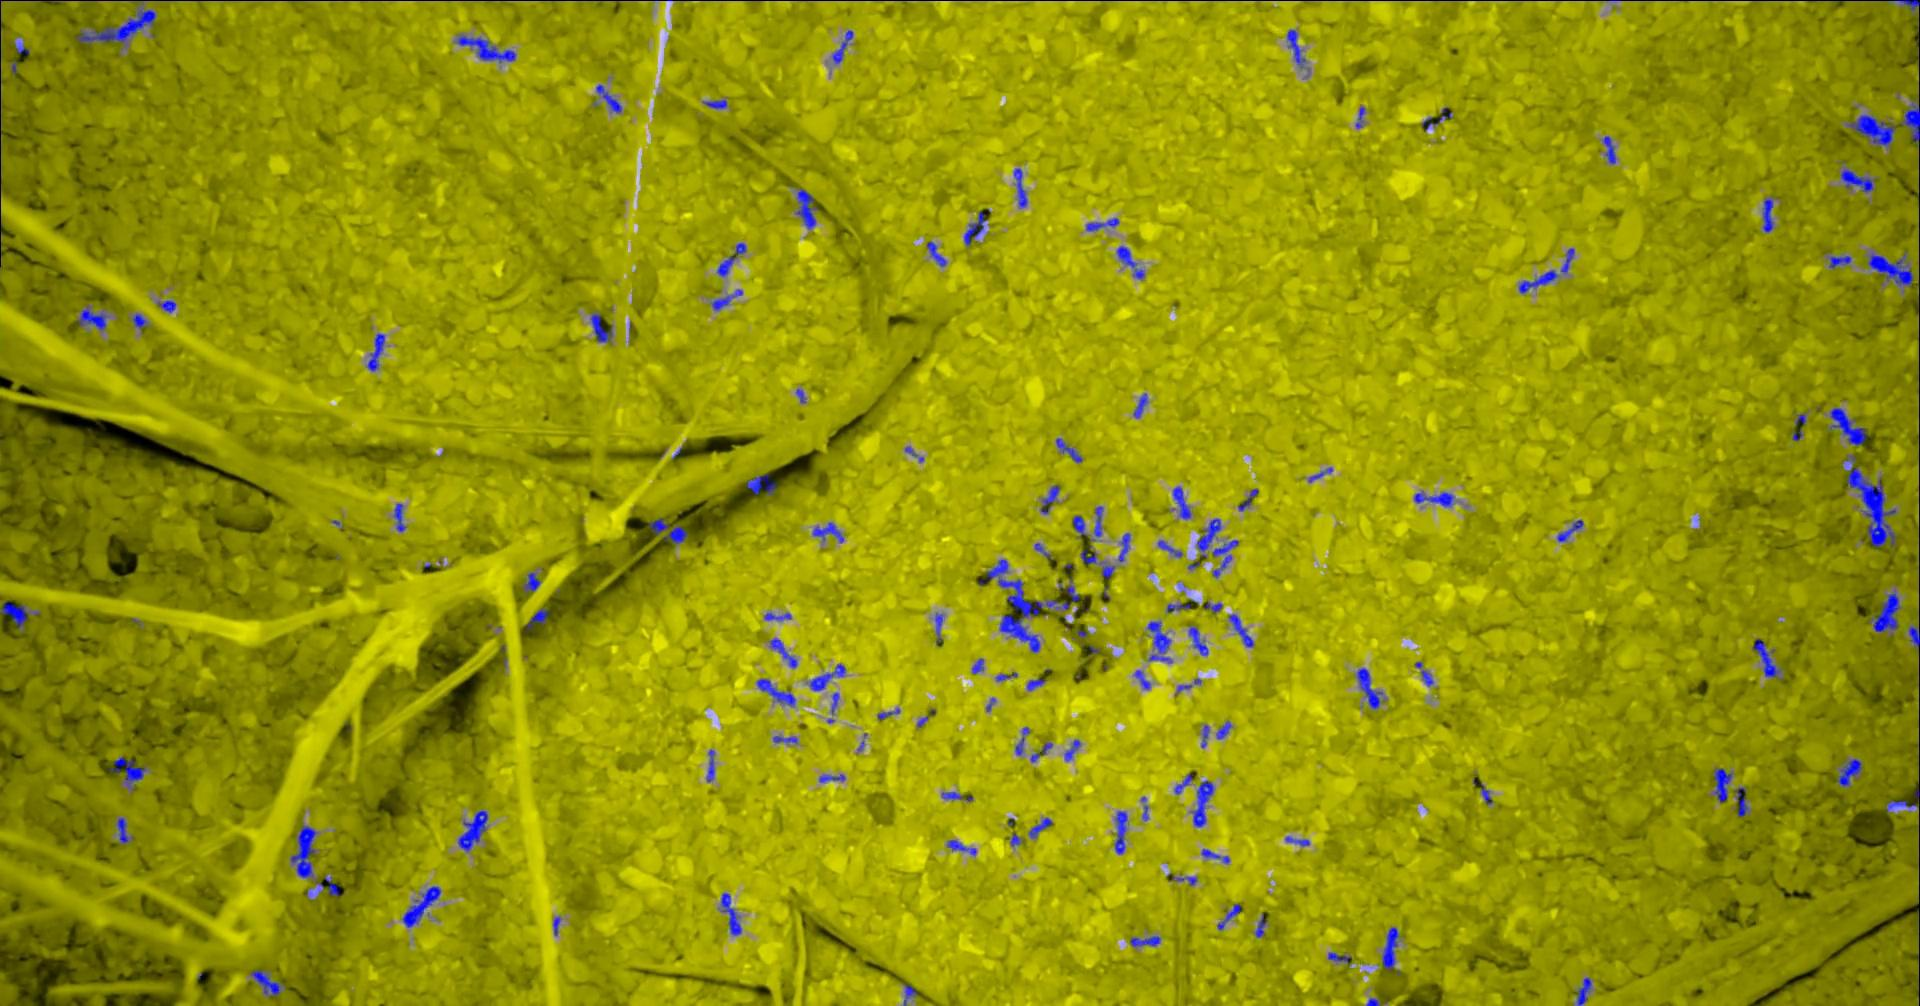ant: (77, 9, 157, 43), (403, 887, 442, 927), (457, 36, 517, 62), (1850, 114, 1896, 149), (1869, 253, 1914, 285), (1831, 406, 1868, 445), (292, 826, 317, 876), (109, 756, 147, 789), (458, 810, 489, 851), (1873, 592, 1902, 631), (1754, 638, 1782, 677), (758, 678, 797, 706), (1357, 667, 1384, 708), (1192, 780, 1215, 827), (808, 663, 847, 690), (1149, 621, 1175, 662), (650, 517, 690, 542), (1214, 539, 1239, 577), (717, 243, 747, 276), (1197, 518, 1222, 558), (1117, 245, 1145, 278), (1520, 271, 1559, 293), (1901, 100, 1920, 147), (723, 892, 743, 934), (797, 188, 819, 227), (1230, 614, 1255, 647), (1, 601, 30, 627), (771, 638, 797, 667), (253, 969, 282, 996), (1841, 169, 1877, 191), (965, 211, 987, 245), (1288, 29, 1307, 67), (598, 84, 623, 112), (77, 307, 108, 330), (1384, 927, 1401, 969), (1839, 758, 1863, 786), (834, 30, 855, 64), (711, 290, 744, 310), (592, 312, 615, 342), (1218, 903, 1243, 929), (1057, 438, 1083, 462), (748, 473, 777, 494), (814, 522, 844, 542), (1716, 767, 1733, 801), (370, 333, 386, 370), (1558, 520, 1585, 541), (1415, 492, 1455, 506), (1175, 486, 1192, 518), (1043, 484, 1062, 513), (1190, 626, 1209, 655), (1015, 168, 1029, 207), (1116, 810, 1129, 854), (317, 876, 345, 895), (527, 607, 550, 629), (928, 241, 949, 265), (1030, 817, 1054, 837), (1239, 488, 1260, 511), (1060, 578, 1081, 601), (1416, 661, 1435, 685), (1476, 779, 1495, 803), (118, 817, 135, 843), (949, 840, 977, 855), (1087, 217, 1120, 230), (1032, 742, 1054, 761), (1159, 540, 1183, 556), (1764, 198, 1775, 232), (1017, 727, 1031, 754), (1203, 848, 1230, 862), (1578, 977, 1592, 1005), (1176, 772, 1194, 794), (1119, 532, 1131, 561), (524, 572, 542, 592), (1562, 248, 1576, 273), (395, 503, 408, 531), (1736, 788, 1749, 815), (1131, 935, 1162, 946), (1604, 136, 1617, 163), (1135, 392, 1149, 417), (1065, 739, 1082, 760), (1887, 800, 1920, 810), (1074, 514, 1088, 537), (943, 791, 974, 801), (1137, 669, 1152, 688), (905, 984, 919, 1005), (1830, 255, 1851, 268), (1095, 506, 1103, 536), (1895, 0, 1920, 10), (1910, 626, 1920, 652), (936, 612, 943, 645), (1168, 602, 1192, 612), (1257, 913, 1267, 937), (709, 749, 716, 781), (1330, 951, 1352, 962), (1218, 721, 1232, 738), (820, 774, 846, 782), (1029, 678, 1048, 690), (703, 99, 728, 108), (1173, 876, 1197, 885), (135, 312, 149, 328), (1082, 549, 1097, 563), (160, 300, 177, 312), (766, 612, 792, 620), (1288, 836, 1310, 845), (973, 658, 985, 673), (1203, 725, 1211, 747), (775, 735, 799, 743), (1205, 602, 1223, 612), (1103, 565, 1116, 577), (17, 43, 30, 53)
